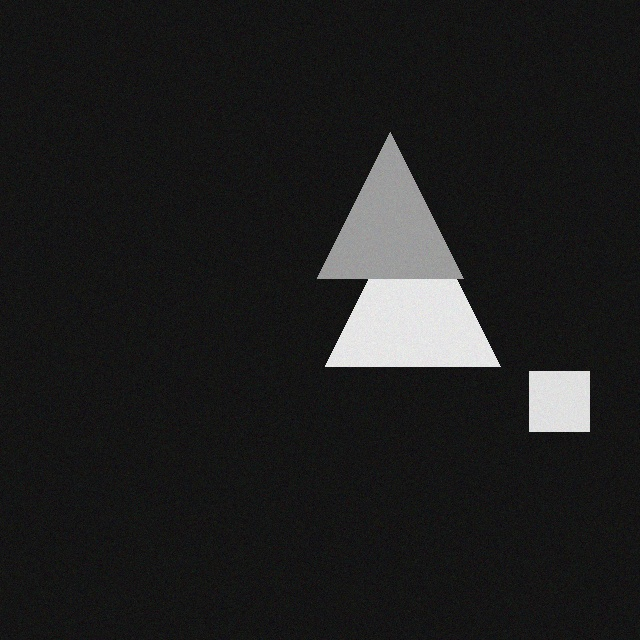square: (523, 383, 583, 443)
triangle: (319, 203, 494, 378), (311, 144, 457, 290)
